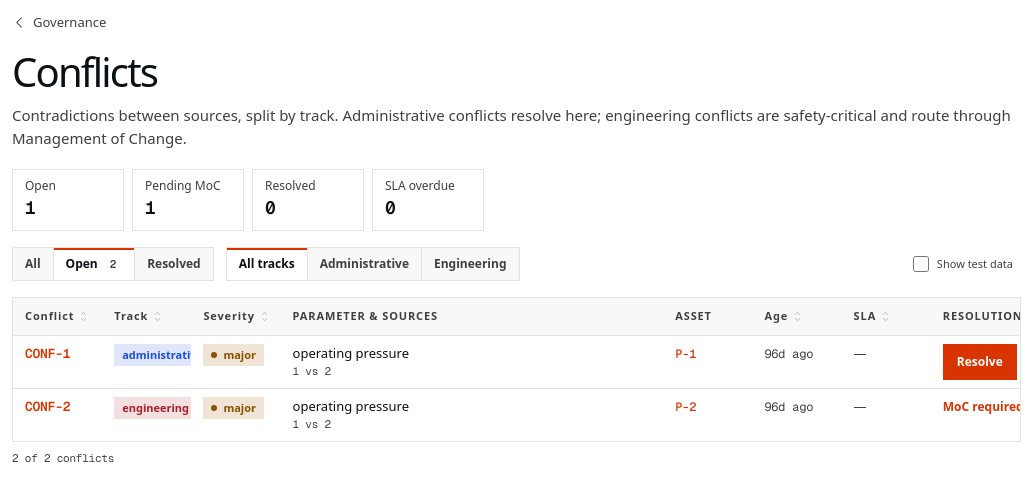
Scenario: ConflictsPage › resolves an administrative conflict optimistically and hides engineering resolve
Check: the link "CONF-1" is shown, box [25, 344, 70, 362]
Click the button "Resolve". click: (980, 362)
box: [943, 344, 1017, 380]
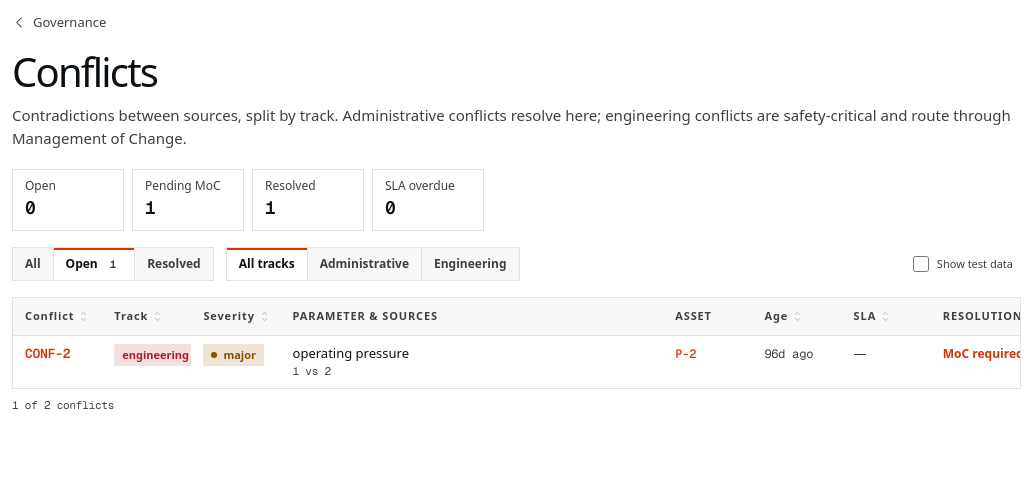
Check: the link "CONF-1" is gone
